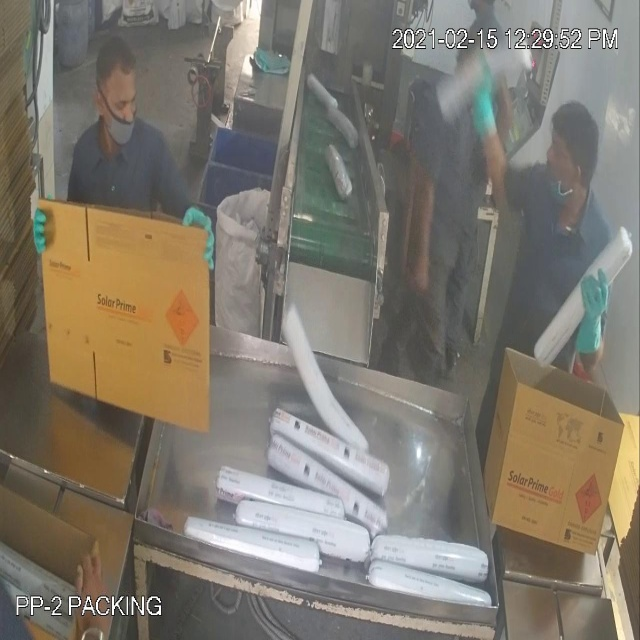Guantes: (461, 49, 503, 164), (577, 252, 614, 371)
Sin_guantes: (406, 157, 438, 304)
